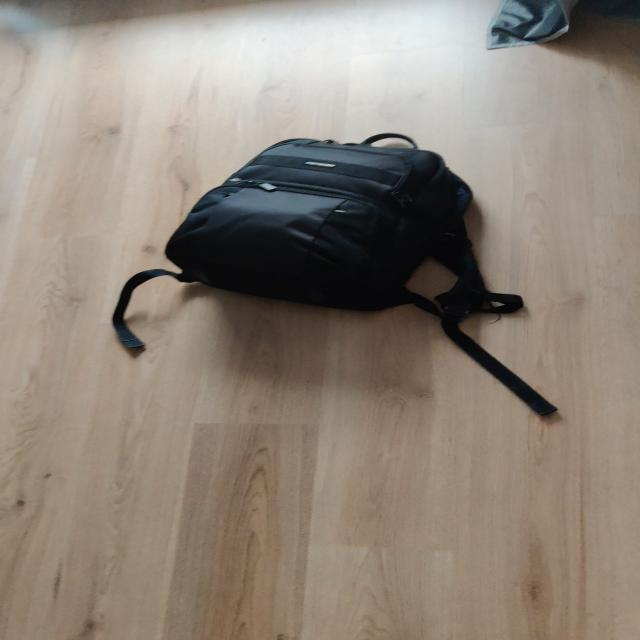backpack: (159, 126, 492, 318)
